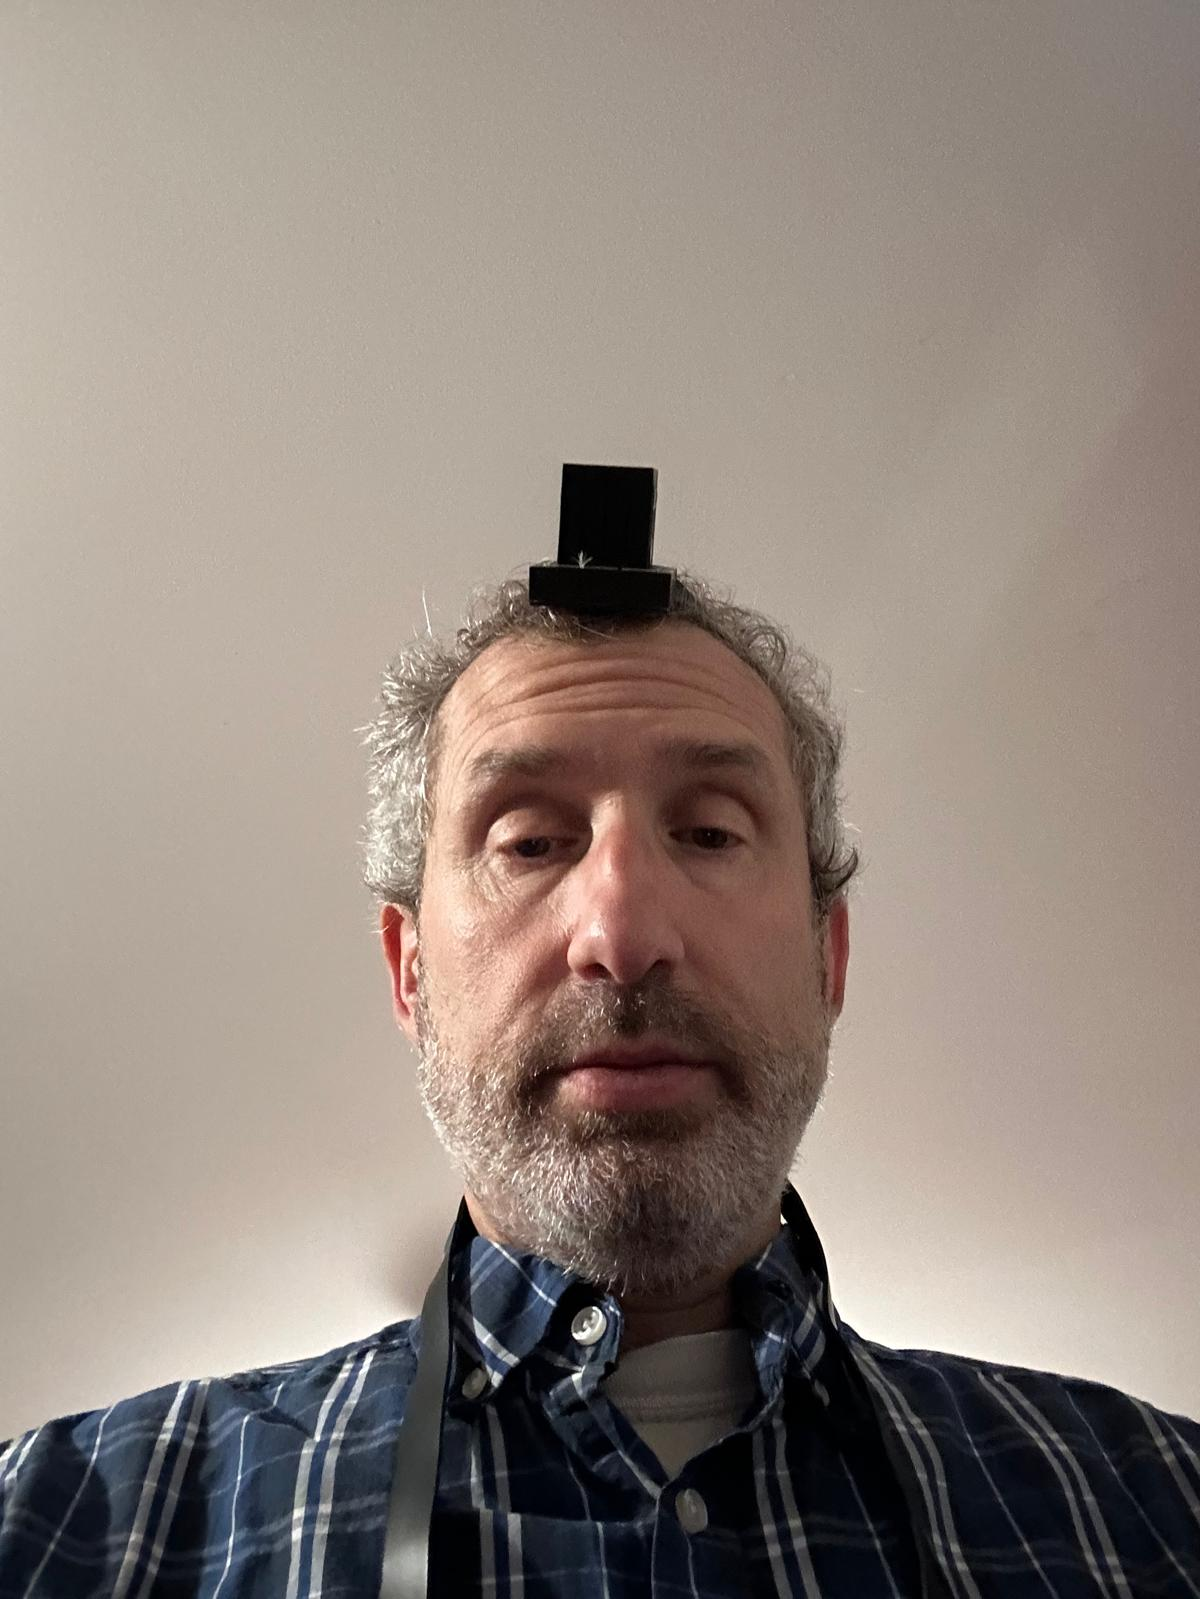tefillin: (531, 461, 674, 621)
